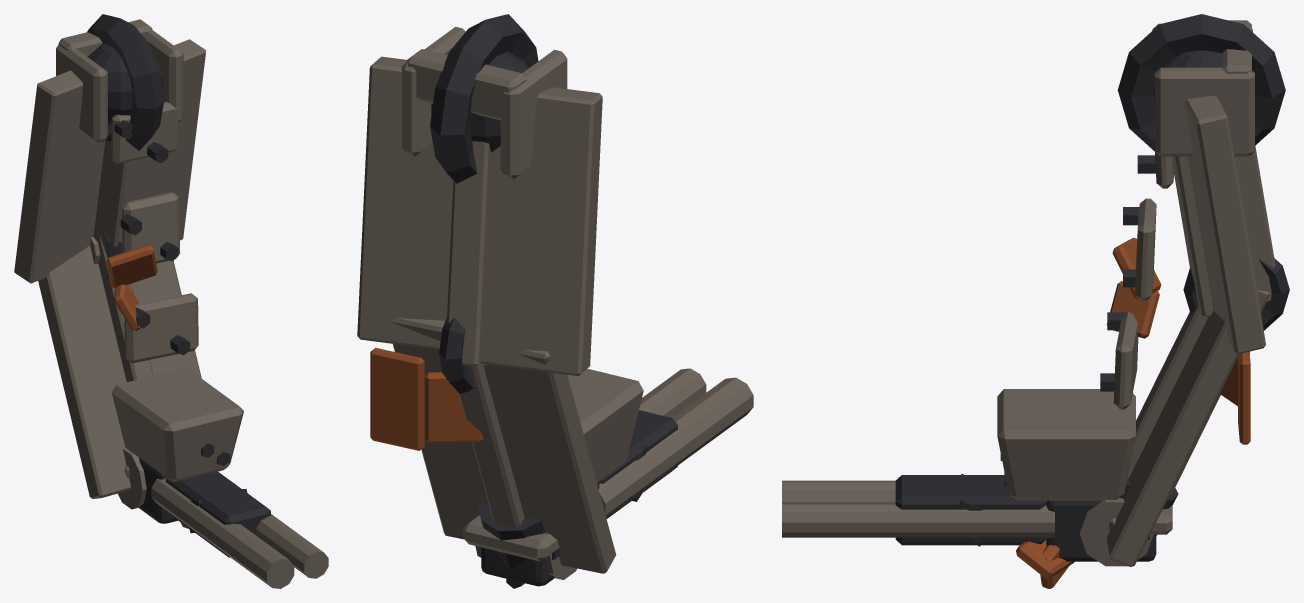
File: ar_scatter.glb
3 views of the same model, side by side, from view 1: azimuth 30°, elevation 25°; view 2: azimuth 150°, elevation 25°; view 3: azimuth 270°, elevation 25° (orthographic). The views are drawn at different scales.
Visible parts, largest first — view 1: ar_scatter; view 2: ar_scatter; view 3: ar_scatter.
Boxes of the visible parts, bbox=[...] form: ar_scatter: bbox=[14, 14, 328, 588]; ar_scatter: bbox=[357, 14, 753, 588]; ar_scatter: bbox=[782, 14, 1289, 588].
Bounding box in the file's own units: 0.1331 × 0.3444 × 0.2828.
